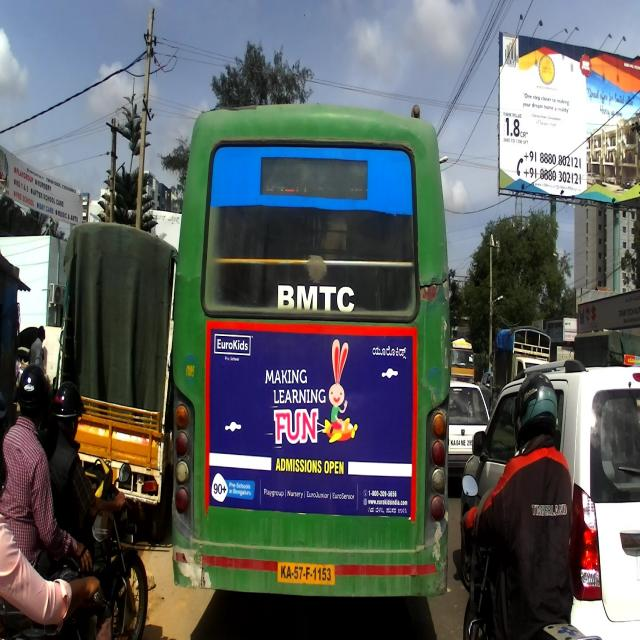Car_Maruti-Suzuki: (459, 362, 639, 637)
bus: (172, 101, 451, 608)
motorcycle_Hero: (461, 472, 601, 640), (26, 455, 148, 640)
motorcycle_Honda: (0, 504, 116, 640)
truck: (60, 220, 178, 543)
